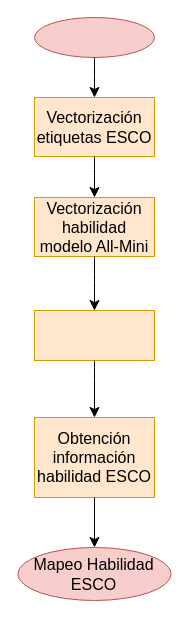
Image size: 189x618. Some labels were removed from this diagram. The shapes that lost their labels are listed below. From the top down, each one's centre as x and y in pixels, then its label:
the point at 94,37: Dataset ESCO
the point at 94,335: Obtención similitud coseno
